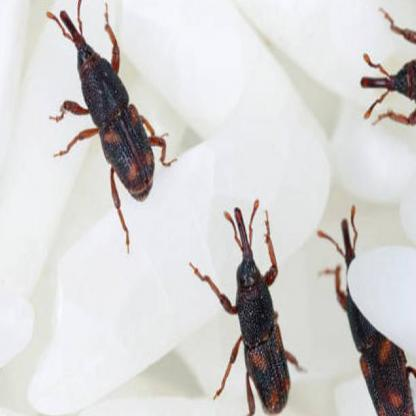rice-bug: (60, 8, 173, 204), (217, 206, 295, 416), (334, 214, 414, 416), (359, 43, 416, 124)
